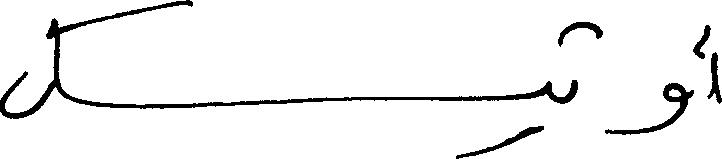X: (0, 0, 190, 123), (661, 78, 686, 133), (569, 17, 577, 106), (711, 47, 721, 108), (541, 76, 551, 135)
